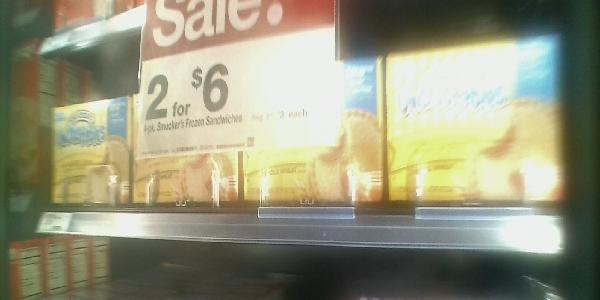icecream: (386, 42, 565, 206), (243, 56, 384, 205), (131, 91, 243, 206), (49, 94, 133, 211)
